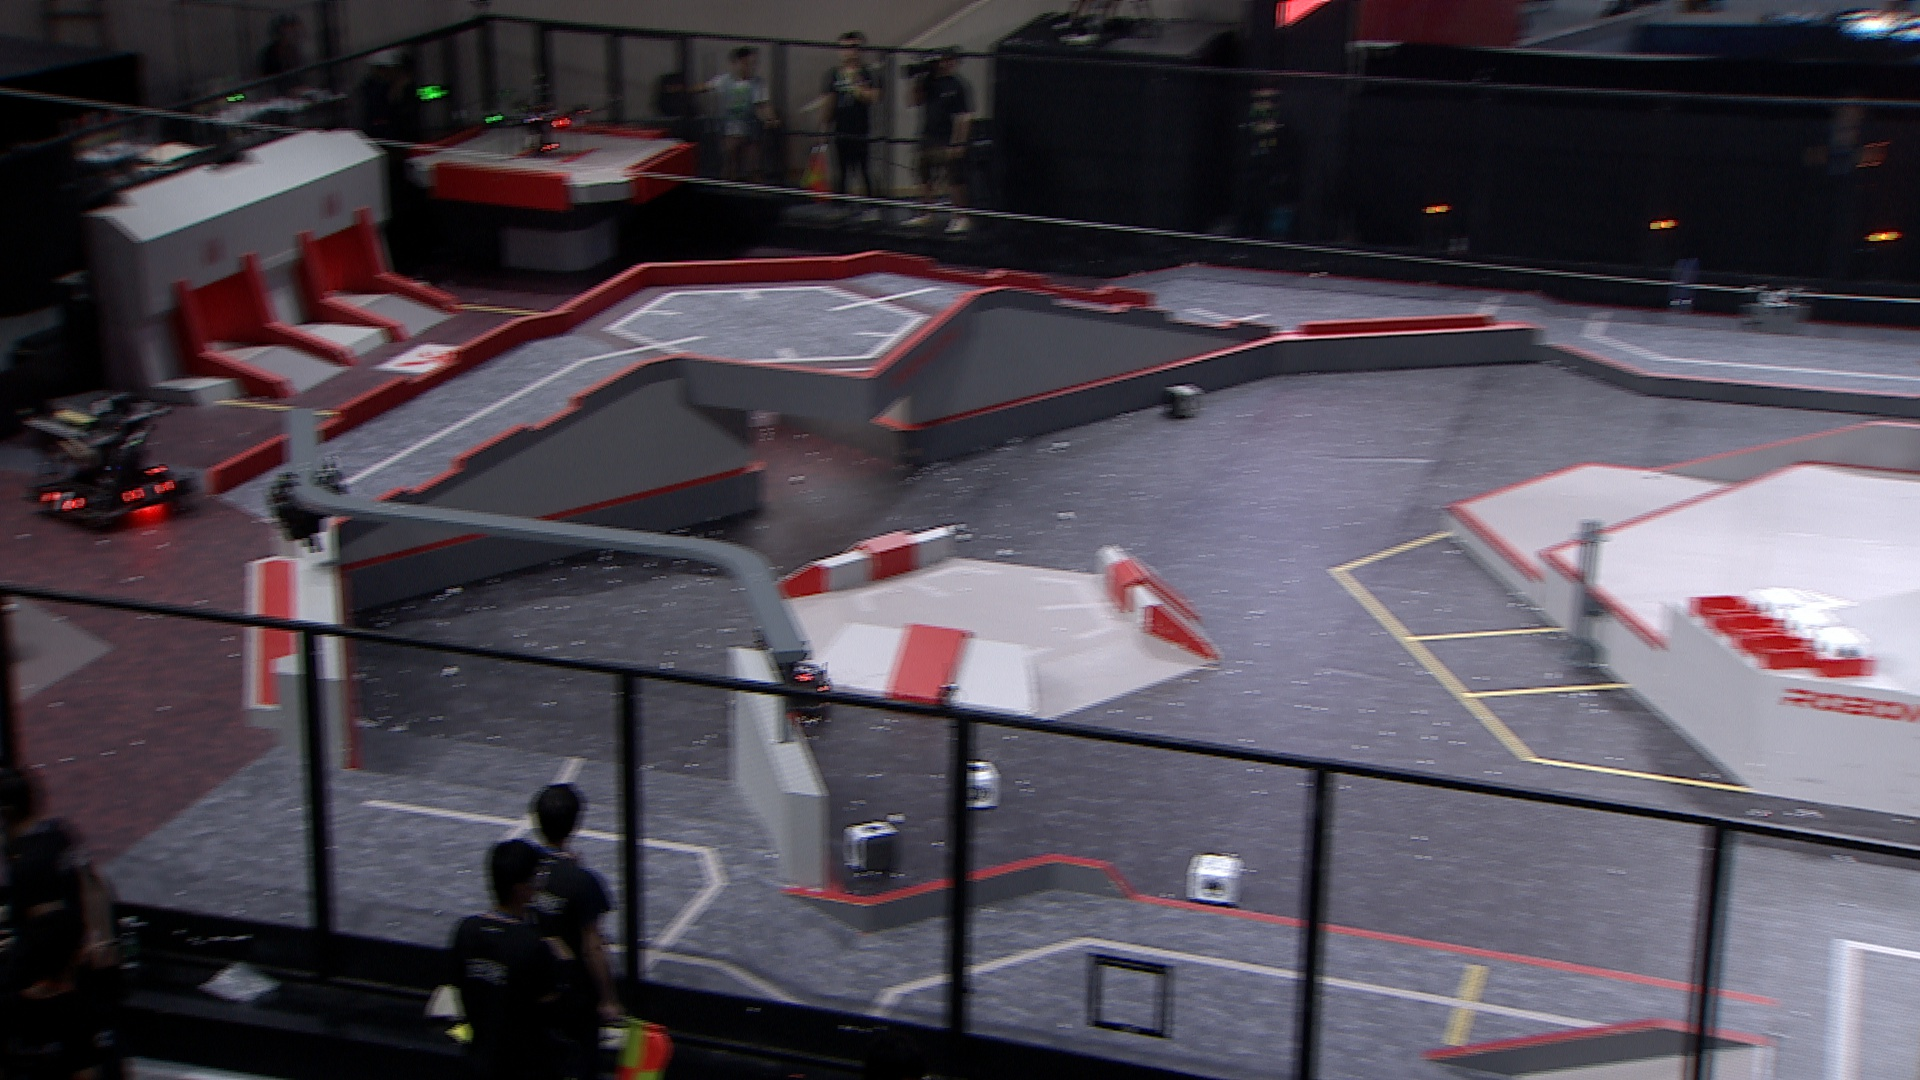armor: (129, 481, 174, 506), (40, 491, 86, 512), (793, 665, 822, 683)
car: (18, 385, 199, 541), (733, 632, 836, 727)
watcher: (266, 462, 357, 559)
